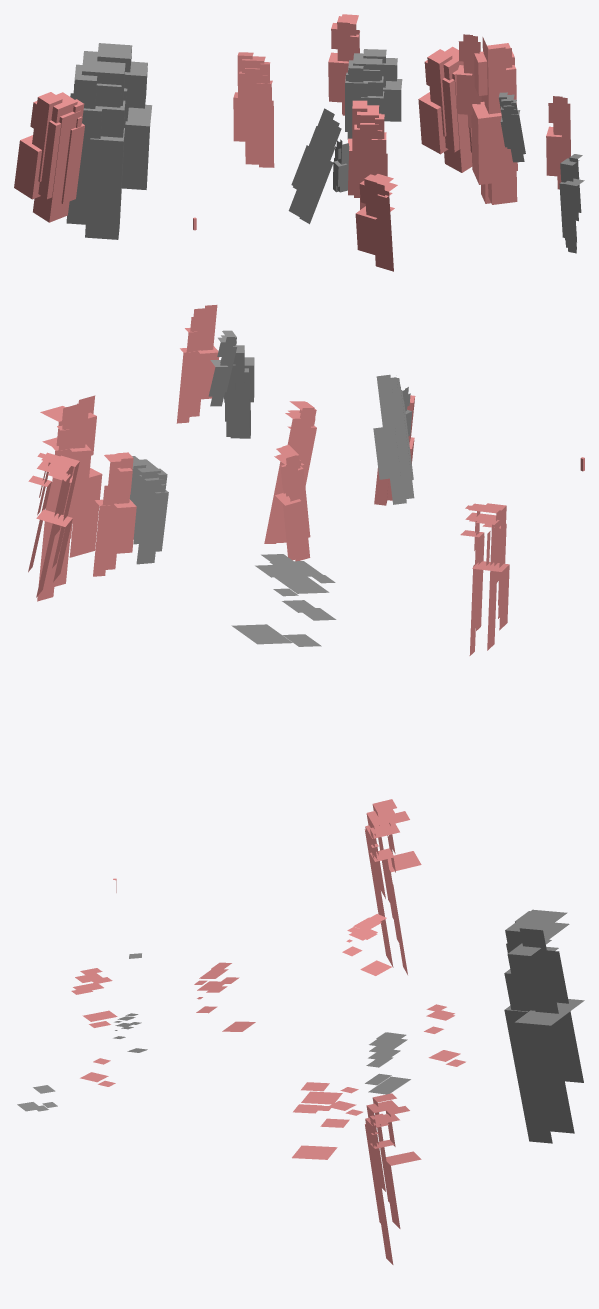
File: S_Envi_FZFBase_Merge_01b.gltf
The picture shows the model from 3 angles, top to bottom: view 1: azimuth 30°, elevation 25°; view 2: azimuth 150°, elevation 25°; view 3: azimuth 270°, elevation 25°; orthographic projection. The views are drawn at different scales.
Visible parts, largest first — view 1: S_Envi_FZFBase_Merge_01b; view 2: S_Envi_FZFBase_Merge_01b; view 3: S_Envi_FZFBase_Merge_01b.
Part boxes in pixels (<box>): S_Envi_FZFBase_Merge_01b: <box>14,14,584,271</box>; S_Envi_FZFBase_Merge_01b: <box>28,305,584,655</box>; S_Envi_FZFBase_Merge_01b: <box>17,799,584,1264</box>.
Bounding box in the file's own units: 585 × 277 × 526.
